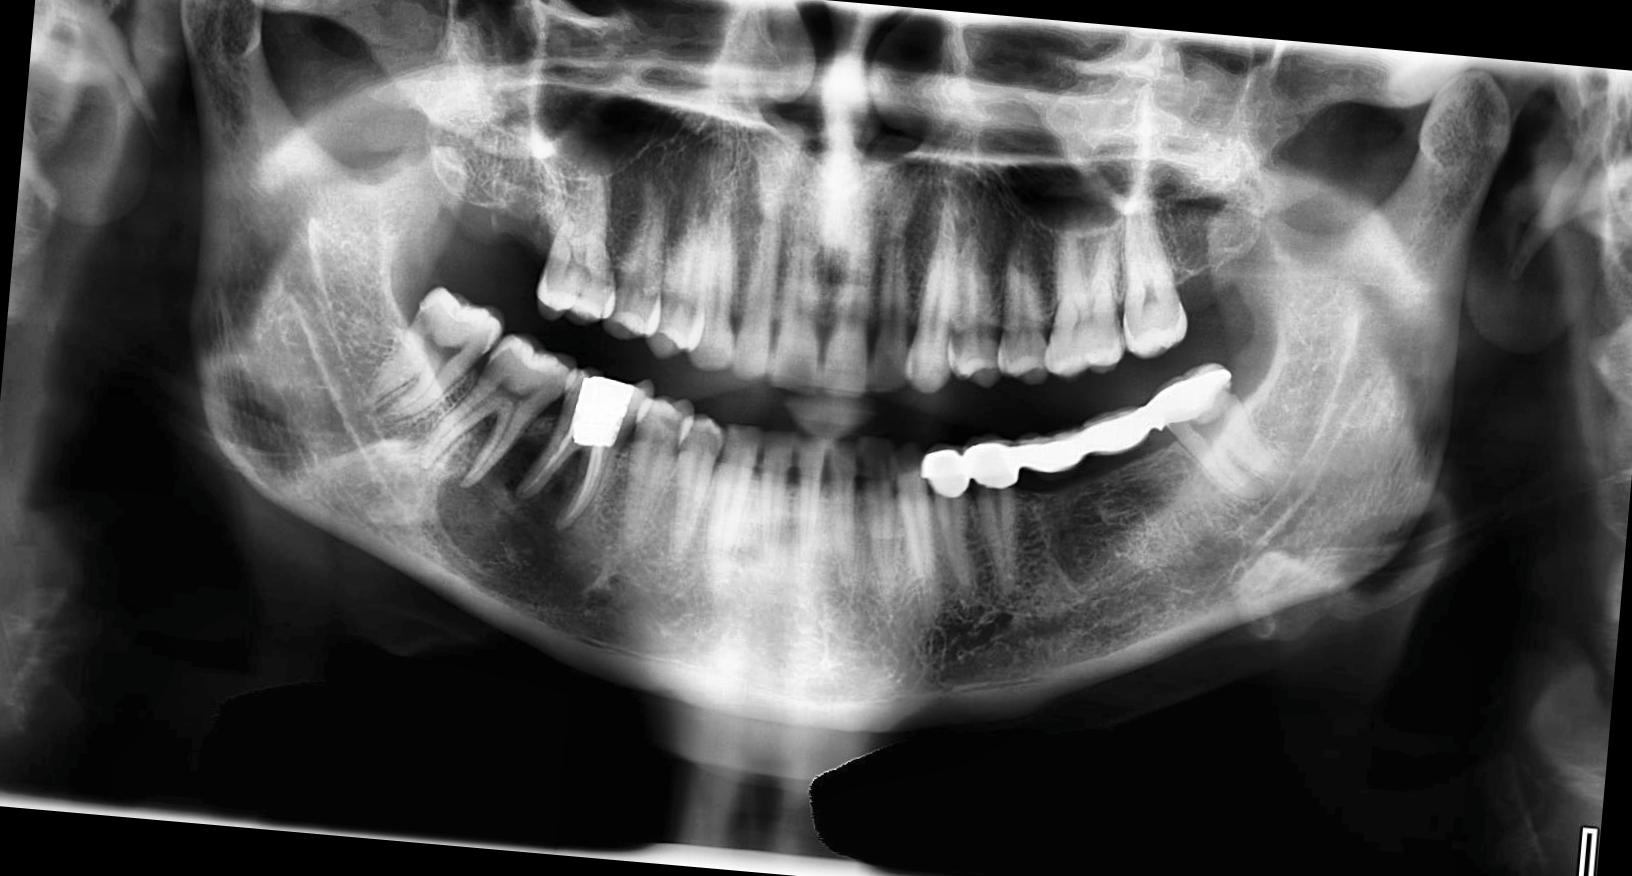radicular: (425, 420, 620, 604)
